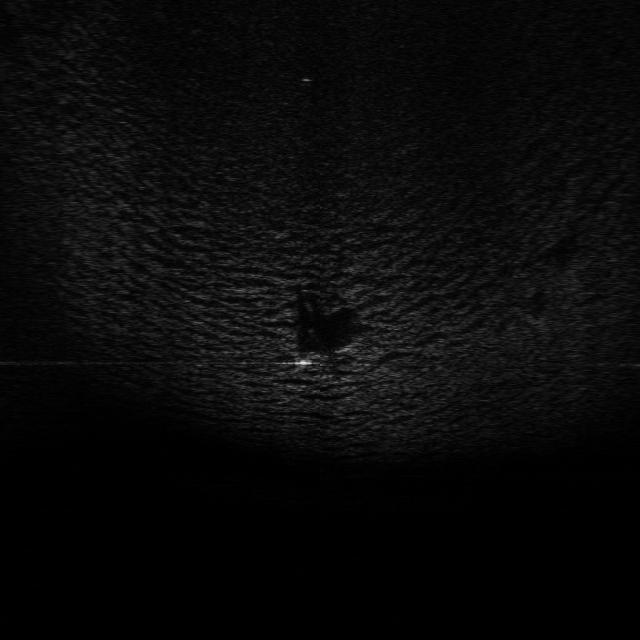plane: (290, 343, 358, 373)
